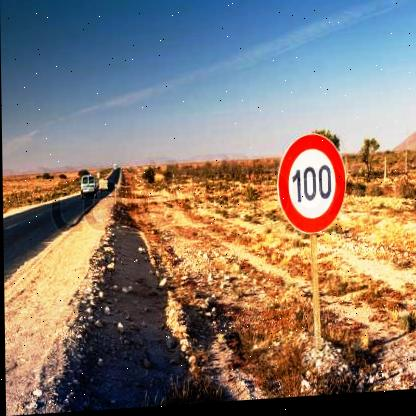Speed Limit -100-: (270, 127, 346, 238)
